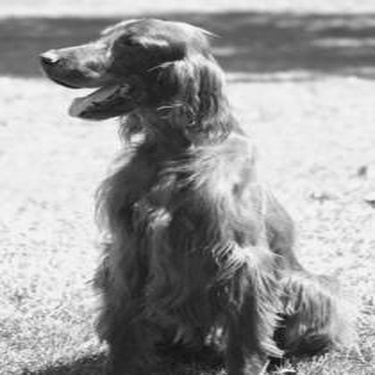dog: (21, 17, 366, 373)
